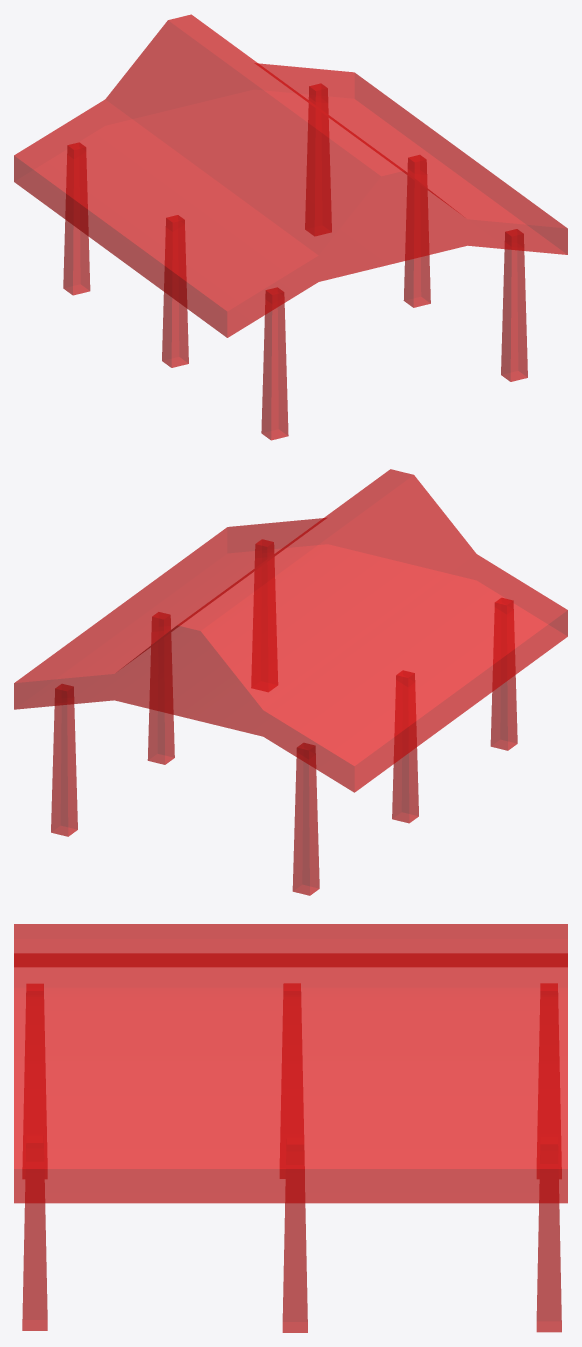
File: SM_Bld_Rickety_House_03_Collision.fbx
The picture shows the model from 3 angles, top to bottom: view 1: azimuth 30°, elevation 25°; view 2: azimuth 150°, elevation 25°; view 3: azimuth 270°, elevation 25°; orthographic projection. The views are drawn at different scales.
Visible parts, largest first — view 1: SM_Bld_Rickety_House_03_Collision; view 2: SM_Bld_Rickety_House_03_Collision; view 3: SM_Bld_Rickety_House_03_Collision.
Part boxes in pixels (x1,y1,x2,y2): SM_Bld_Rickety_House_03_Collision: (14,14,567,440); SM_Bld_Rickety_House_03_Collision: (14,469,567,895); SM_Bld_Rickety_House_03_Collision: (14,924,567,1332).
Size of the model in its own units: 532 by 359 by 578.
